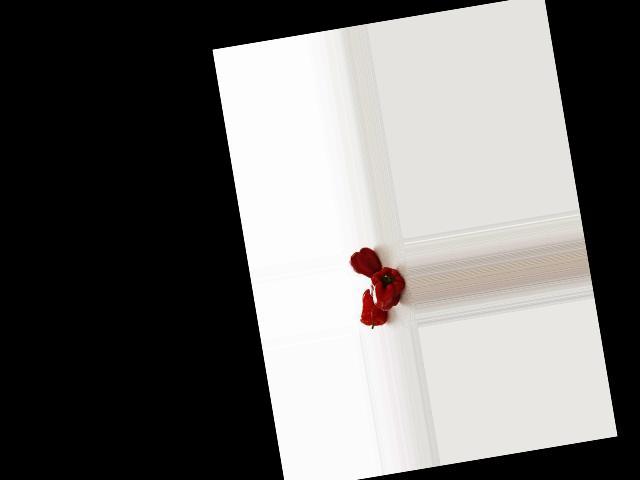bell_pepper: (347, 243, 384, 278)
